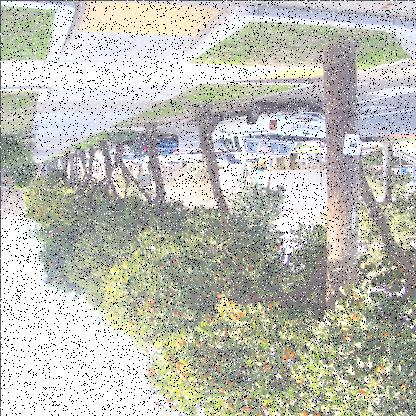Tree: (156, 44, 416, 415), (110, 93, 288, 362), (76, 126, 206, 318), (47, 132, 150, 301), (346, 140, 416, 270), (42, 151, 122, 254), (24, 152, 86, 230)
